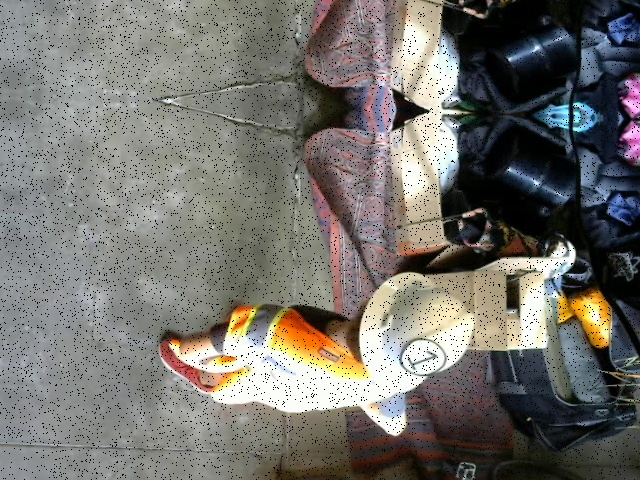one: (399, 337, 445, 375)
